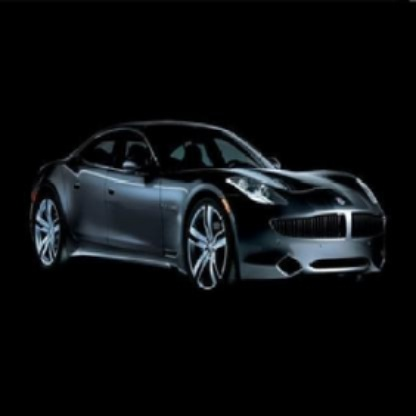Vehicle: (30, 116, 396, 309)
